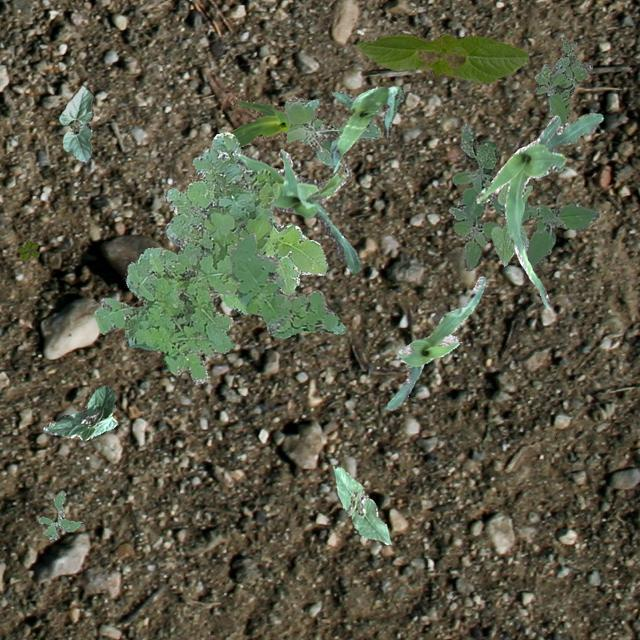crop: (474, 112, 602, 308), (232, 146, 360, 272), (188, 96, 344, 182), (384, 276, 484, 410), (357, 32, 528, 84), (328, 85, 402, 172), (331, 464, 392, 544), (42, 384, 116, 439), (491, 182, 532, 266), (56, 84, 94, 162)
weed: (92, 132, 278, 384), (448, 122, 598, 270), (228, 232, 346, 336), (221, 216, 327, 314), (284, 95, 381, 168), (534, 36, 592, 126), (38, 488, 82, 540), (16, 240, 38, 258)
